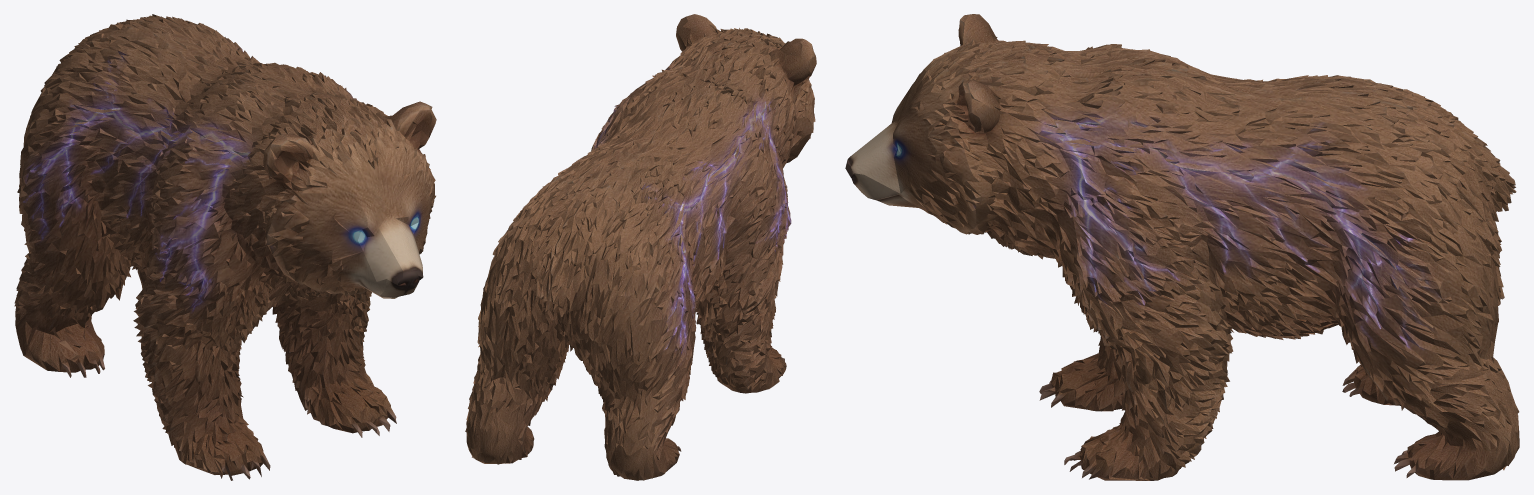
The model's file is staticub_r10_meshy.glb.
The picture shows the model from 3 angles, left to right: view 1: azimuth 30°, elevation 25°; view 2: azimuth 150°, elevation 25°; view 3: azimuth 270°, elevation 25°; orthographic projection. The views are drawn at different scales.
Parts seen in each view (by area): view 1: Mesh_0; view 2: Mesh_0; view 3: Mesh_0.
Boxes of the visible parts, bbox=[...] form: Mesh_0: bbox=[14, 14, 436, 480]; Mesh_0: bbox=[465, 14, 816, 480]; Mesh_0: bbox=[845, 14, 1519, 480].
Bounding box in the file's own units: 0.7874 × 1.2 × 1.9.
1 material, 1 textured.
